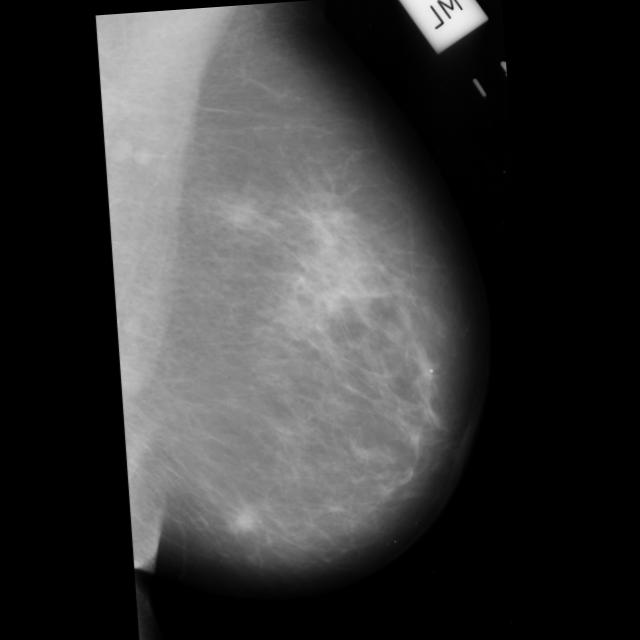SPIC: (0, 8, 234, 546)
